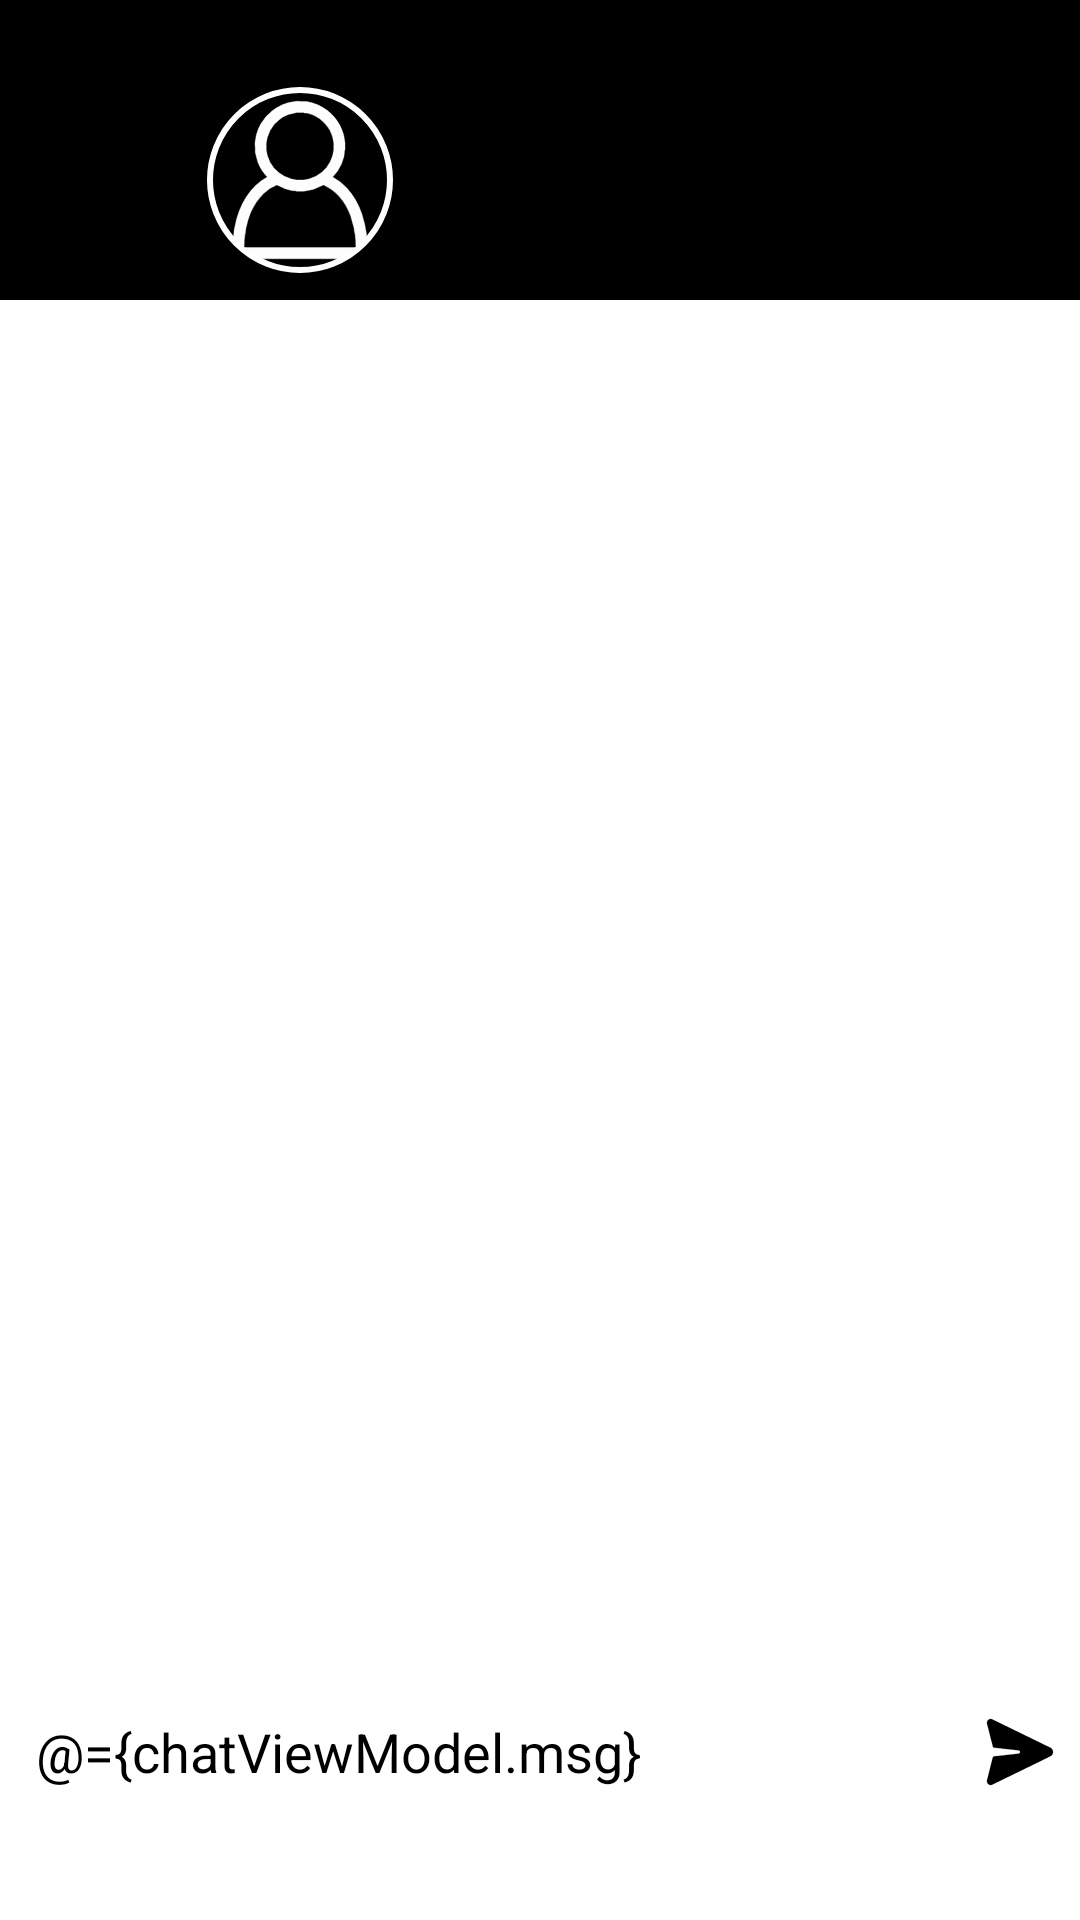

Screen size 1080px x 1920px. Icon name, then its box in pixels as (x1, y1, x2, y2):
send: (986, 1718, 1054, 1786)
